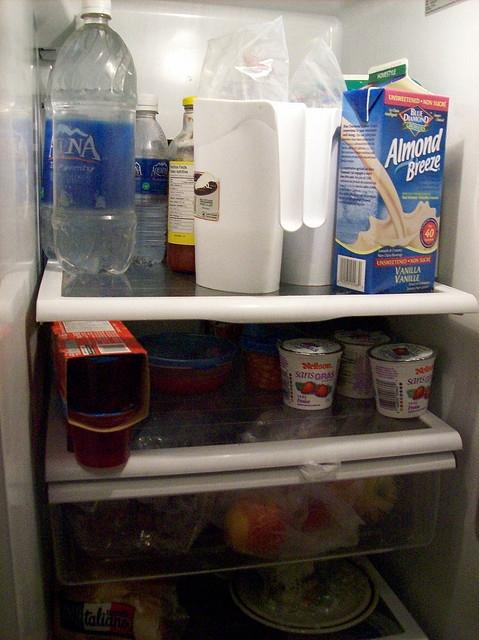apple: (225, 500, 291, 560), (303, 498, 328, 526)
